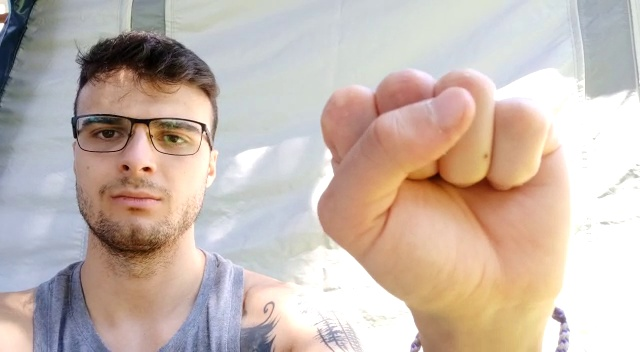Fist: (317, 65, 579, 311)
